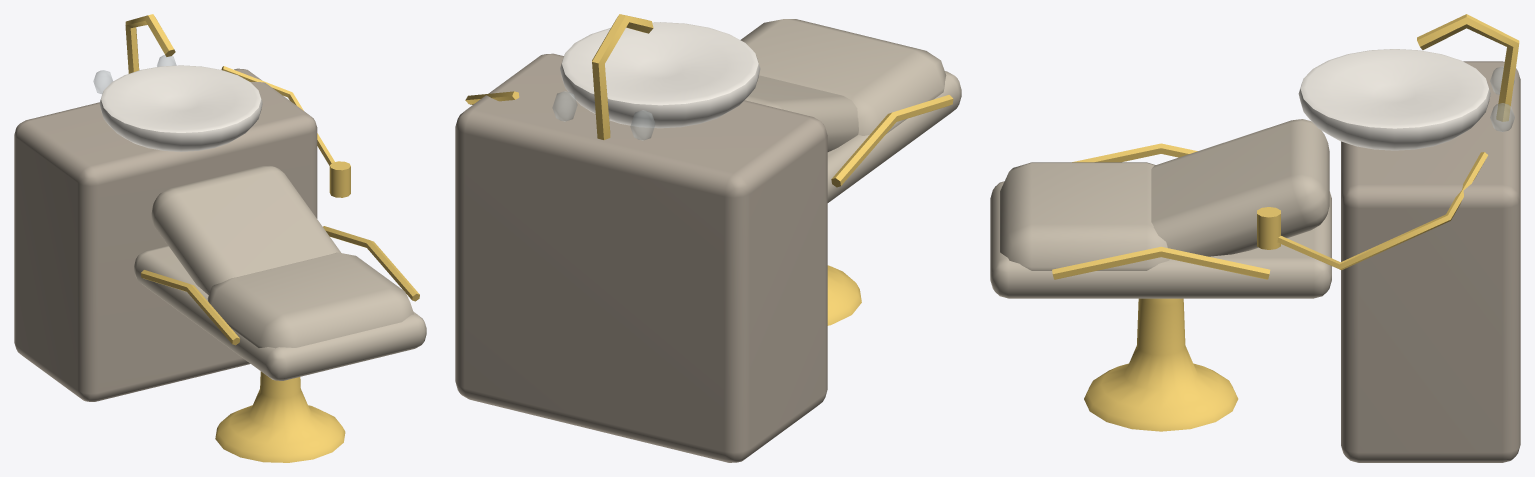
The model's file is washbasin_chair.glb.
The picture shows the model from 3 angles, left to right: view 1: azimuth 30°, elevation 25°; view 2: azimuth 150°, elevation 25°; view 3: azimuth 270°, elevation 25°; orthographic projection. The views are drawn at different scales.
Visible parts, largest first — view 1: washbasin_chair; view 2: washbasin_chair; view 3: washbasin_chair.
Part boxes in pixels (bbox=[...]): washbasin_chair: bbox=[14, 14, 426, 462]; washbasin_chair: bbox=[455, 14, 961, 462]; washbasin_chair: bbox=[990, 14, 1520, 462].
Size of the model in its own units: 0.9613 by 1.19 by 1.47.
